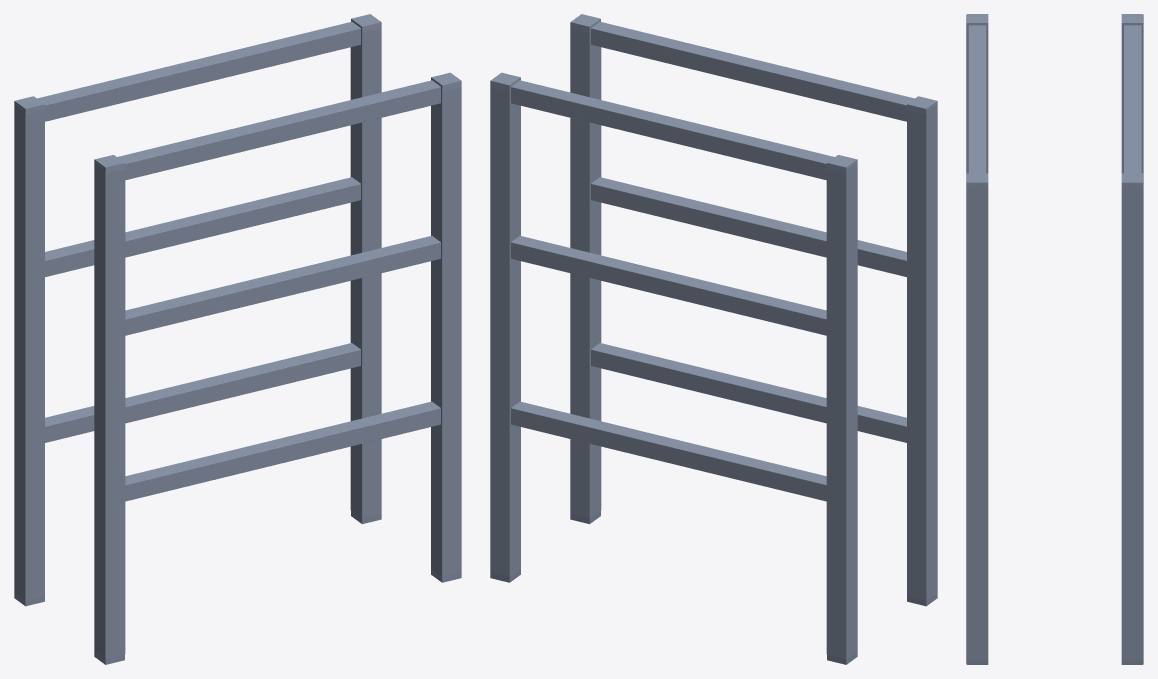
Rendered from RackBay.glb.
3 views of the same model, side by side, from view 1: azimuth 30°, elevation 25°; view 2: azimuth 150°, elevation 25°; view 3: azimuth 270°, elevation 25° (orthographic). The views are drawn at different scales.
Visible parts, largest first — view 1: Upright_-0.85_-0.35, Upright_-0.85_0.35, Upright_0.85_-0.35, Upright_0.85_0.35, BeamF_2.35, BeamB_2.35, BeamF_1.6, BeamF_0.8, BeamB_0.8, BeamB_1.6; view 2: Upright_-0.85_0.35, Upright_-0.85_-0.35, Upright_0.85_0.35, Upright_0.85_-0.35, BeamF_2.35, BeamB_2.35, BeamB_1.6, BeamB_0.8, BeamF_1.6, BeamF_0.8; view 3: Upright_0.85_-0.35, Upright_0.85_0.35, BeamF_2.35, BeamB_2.35, Upright_-0.85_-0.35, Upright_-0.85_0.35.
Part boxes in pixels (x1,y1,x2,y2): Upright_-0.85_-0.35: [94, 154, 125, 664]; Upright_-0.85_0.35: [14, 96, 44, 606]; Upright_0.85_-0.35: [431, 72, 461, 582]; Upright_0.85_0.35: [350, 14, 381, 524]; BeamF_2.35: [95, 80, 440, 184]; BeamB_2.35: [15, 21, 360, 121]; BeamF_1.6: [103, 235, 440, 338]; BeamF_0.8: [125, 401, 440, 501]; BeamB_0.8: [45, 343, 360, 442]; BeamB_1.6: [45, 177, 360, 276]; Upright_-0.85_0.35: [826, 154, 857, 664]; Upright_-0.85_-0.35: [907, 96, 937, 606]; Upright_0.85_0.35: [490, 72, 520, 582]; Upright_0.85_-0.35: [570, 14, 601, 524]; BeamF_2.35: [591, 21, 936, 126]; BeamB_2.35: [511, 80, 856, 180]; BeamB_1.6: [511, 235, 826, 335]; BeamB_0.8: [511, 401, 826, 501]; BeamF_1.6: [591, 177, 936, 278]; BeamF_0.8: [591, 343, 906, 442]; Upright_0.85_-0.35: [966, 173, 988, 664]; Upright_0.85_0.35: [1121, 173, 1143, 664]; BeamF_2.35: [968, 25, 986, 200]; BeamB_2.35: [1123, 25, 1141, 199]; Upright_-0.85_-0.35: [966, 14, 988, 173]; Upright_-0.85_0.35: [1121, 14, 1143, 173].
Size of the model in its own units: 1.8 by 2.4 by 0.8.
